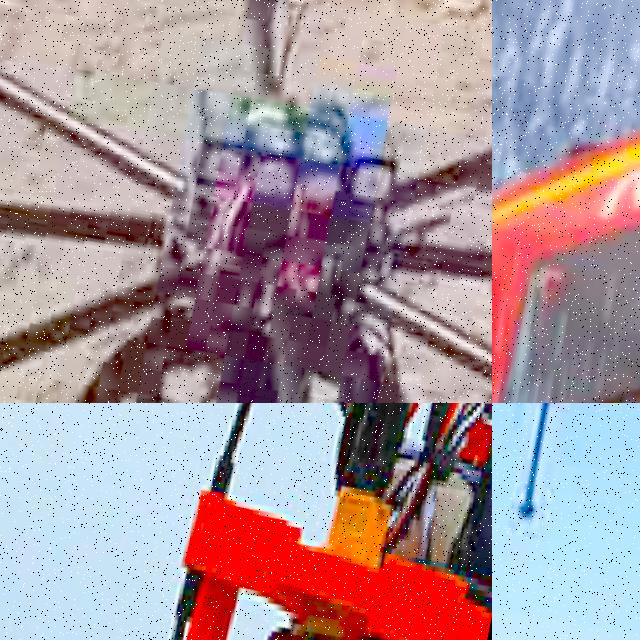0: (0, 0, 492, 403), (492, 403, 640, 640)
drone: (0, 403, 492, 640), (492, 0, 640, 403)
